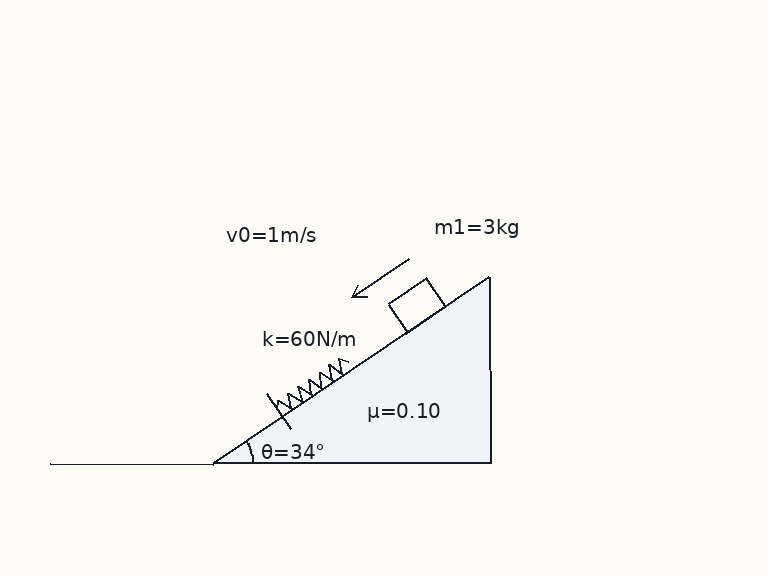block: (386, 276, 447, 334)
ramp: (211, 275, 491, 465)
spring: (275, 356, 351, 411)
